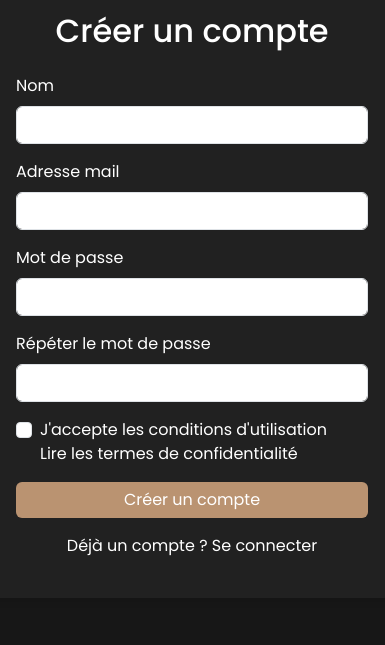
SignupPage.vue - Form Validation › should display error if passwords do not match
Type "Password1!" into the password field labelled "Mot de passe" at (192,297), box [16,278,368,316]
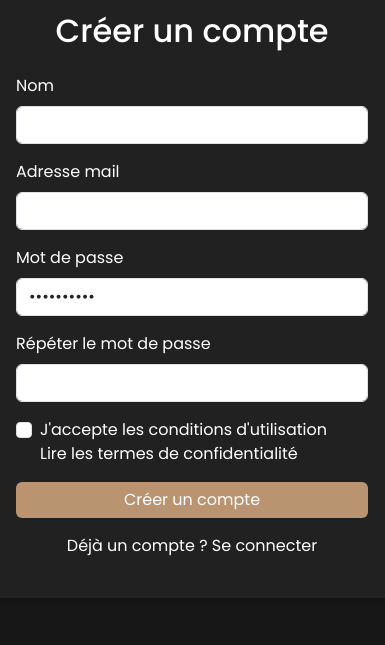
Type "Password2!" into the password field with id "confirmPassword" at (192,383), box [16,364,368,402]
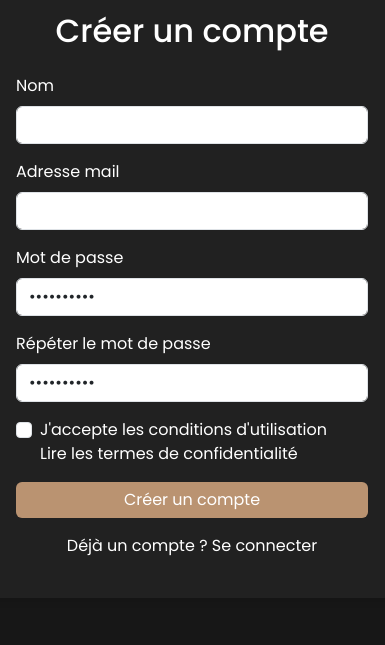
Submit the form
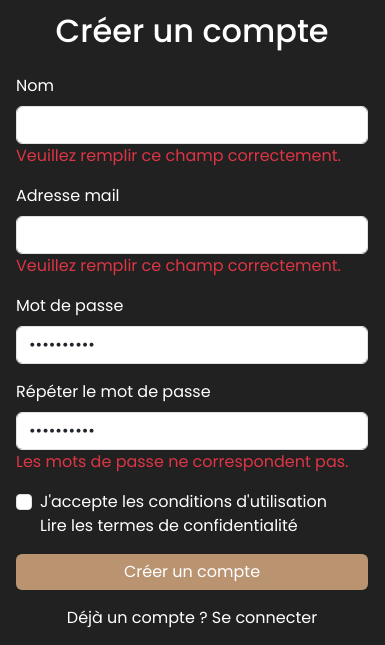
Expected: the message "Les mots de passe ne correspondent pas." is shown, [16,450,348,473]
